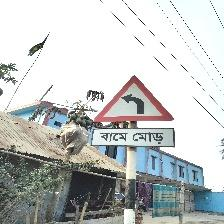Left-Turn: (90, 76, 177, 149)
